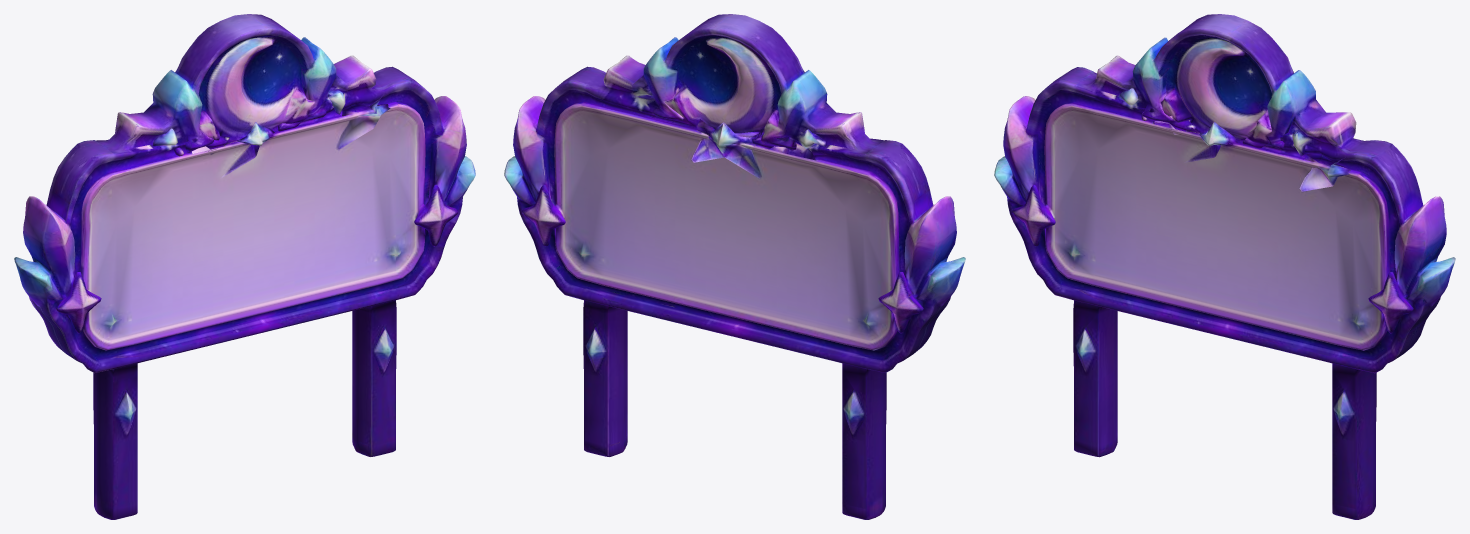
3 renders of one model, left to right at view 1: azimuth 30°, elevation 25°; view 2: azimuth 150°, elevation 25°; view 3: azimuth 330°, elevation 25°, orthographic.
Bounding box in the file's own units: 1.91 × 1.85 × 0.2544.
Materials: 1 (1 with a texture image).
